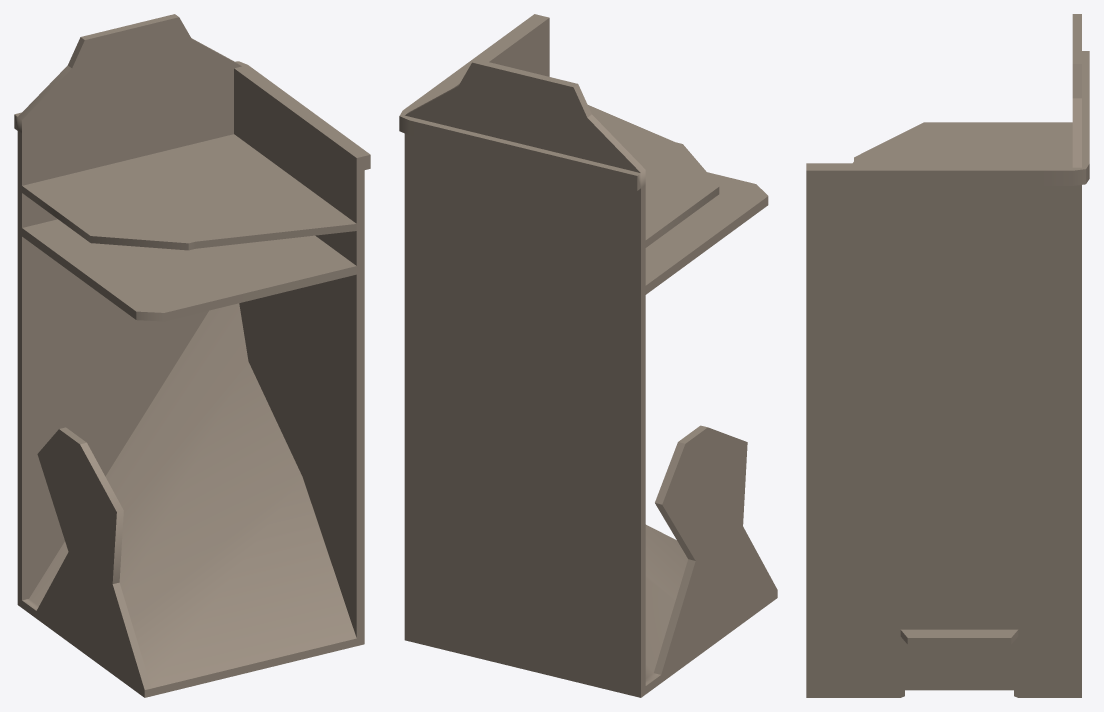
The model's file is building5.fbx.
3 renders of one model, left to right at view 1: azimuth 30°, elevation 25°; view 2: azimuth 150°, elevation 25°; view 3: azimuth 270°, elevation 25°, orthographic. The views are drawn at different scales.
Parts seen in each view (by area): view 1: building3; view 2: building3; view 3: building3.
Boxes of the visible parts, x1,y1,x2,y2 form: building3: [14, 14, 370, 697]; building3: [399, 14, 777, 697]; building3: [806, 14, 1089, 697].
Size of the model in its own units: 1891 by 4245 by 1817.
